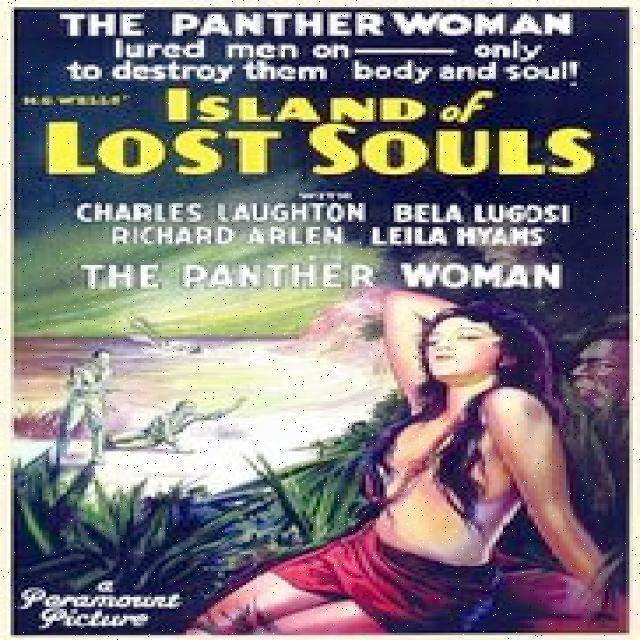movie-judul: (36, 86, 603, 182)
picture: (180, 292, 624, 638)
